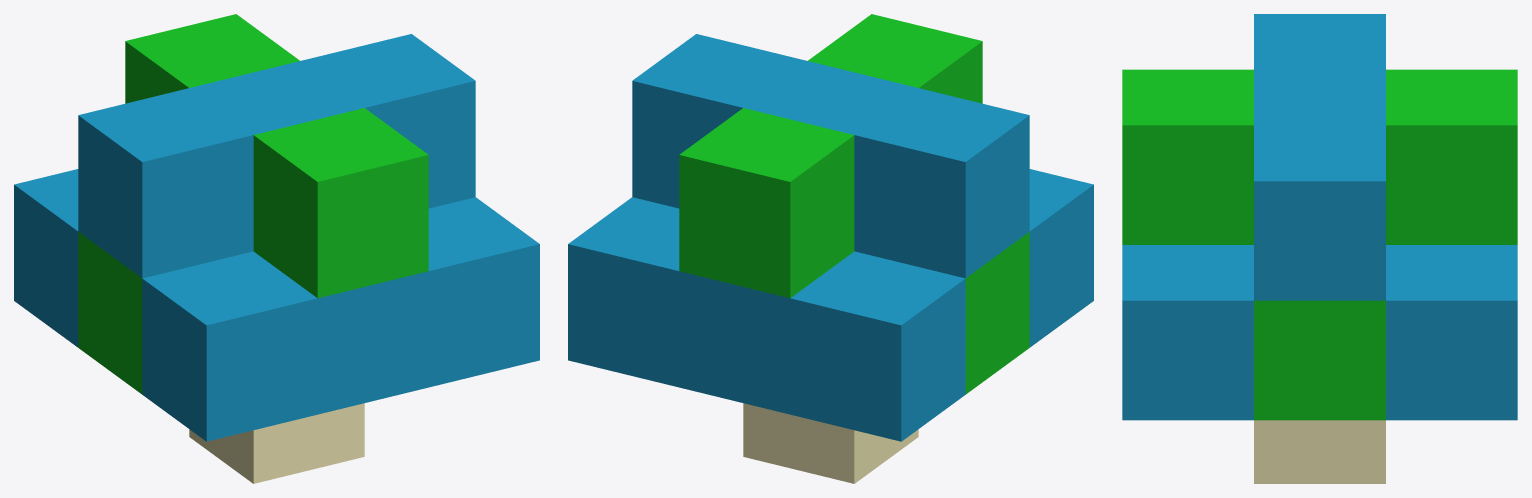
The model's file is Mushroom3_S.obj.
3 views of the same model, side by side, from view 1: azimuth 30°, elevation 25°; view 2: azimuth 150°, elevation 25°; view 3: azimuth 270°, elevation 25° (orthographic). The views are drawn at different scales.
Parts seen in each view (by area): view 1: Mushroom3_S; view 2: Mushroom3_S; view 3: Mushroom3_S.
Part boxes in pixels (bbox=[...]): Mushroom3_S: bbox=[14, 14, 539, 483]; Mushroom3_S: bbox=[568, 14, 1093, 483]; Mushroom3_S: bbox=[1122, 14, 1517, 483].
Bounding box in the file's own units: 0.3 × 0.3 × 0.3.
Materials: 1 (1 with a texture image).
